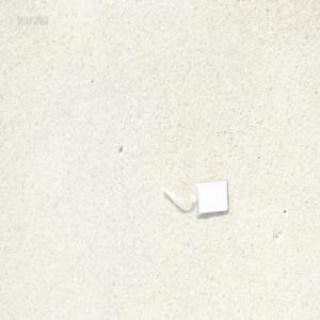LuggageTagtrack_idkeyframe: (158, 177, 228, 218)
